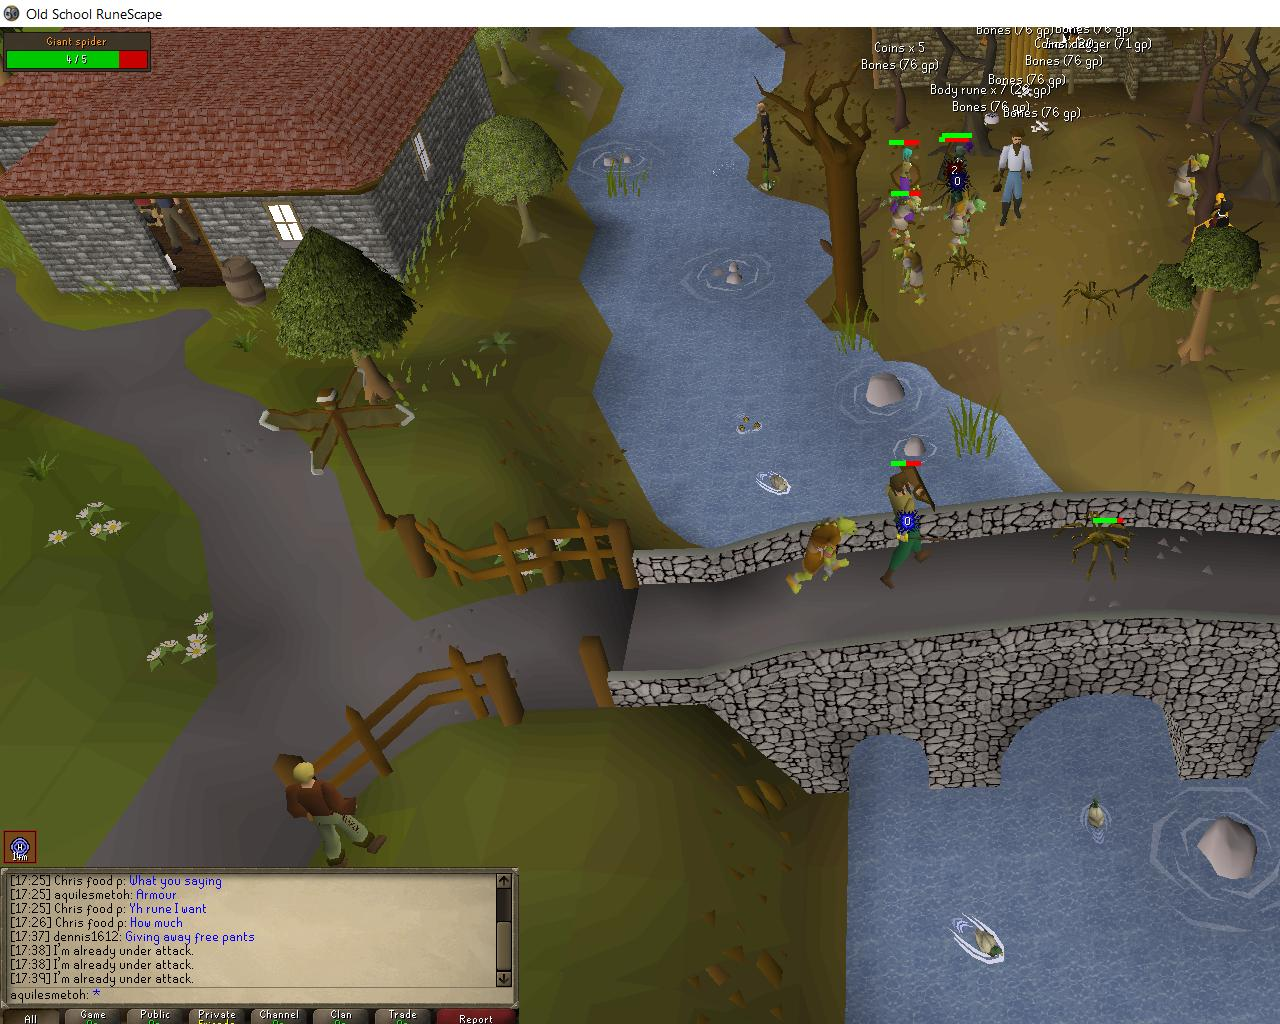Goblin: (779, 514, 860, 596), (887, 196, 944, 250), (938, 197, 990, 254), (1168, 152, 1208, 219), (891, 243, 934, 305)
